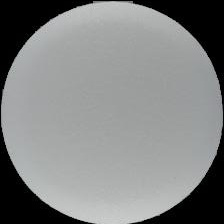61786-701: (0, 0, 224, 224)
